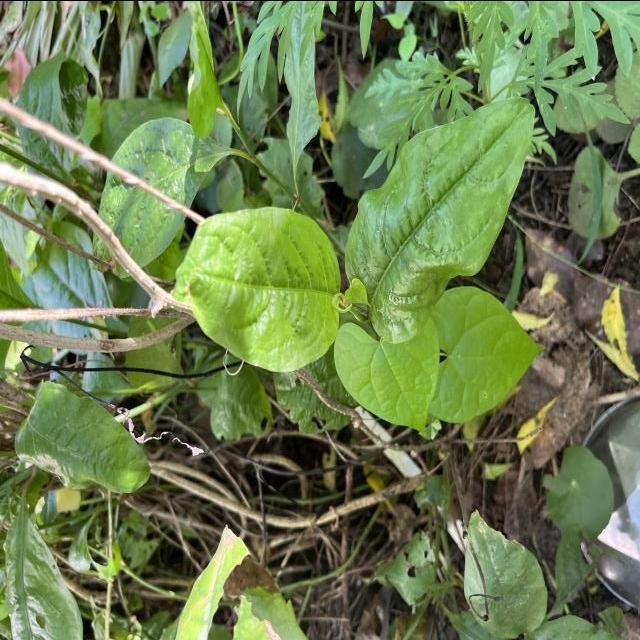Plumbago indica: (344, 94, 537, 346), (175, 204, 344, 375)
